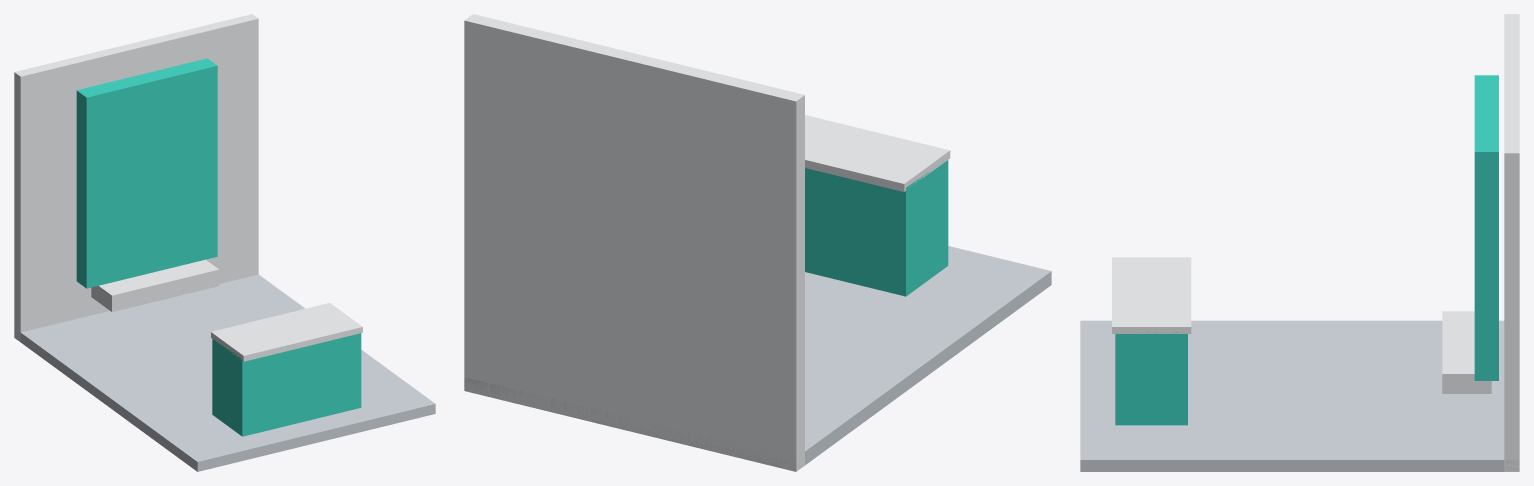
3 renders of one model, left to right at view 1: azimuth 30°, elevation 25°; view 2: azimuth 150°, elevation 25°; view 3: azimuth 270°, elevation 25°, orthographic. The views are drawn at different scales.
Visible parts, largest first — view 1: Exhibition Booth Concept; view 2: Exhibition Booth Concept; view 3: Exhibition Booth Concept.
Boxes of the visible parts, <box> form: Exhibition Booth Concept: <box>14,14,435,471</box>; Exhibition Booth Concept: <box>464,14,1051,471</box>; Exhibition Booth Concept: <box>1080,14,1519,471</box>.
Size of the model in its own units: 3 by 3.2 by 4.
